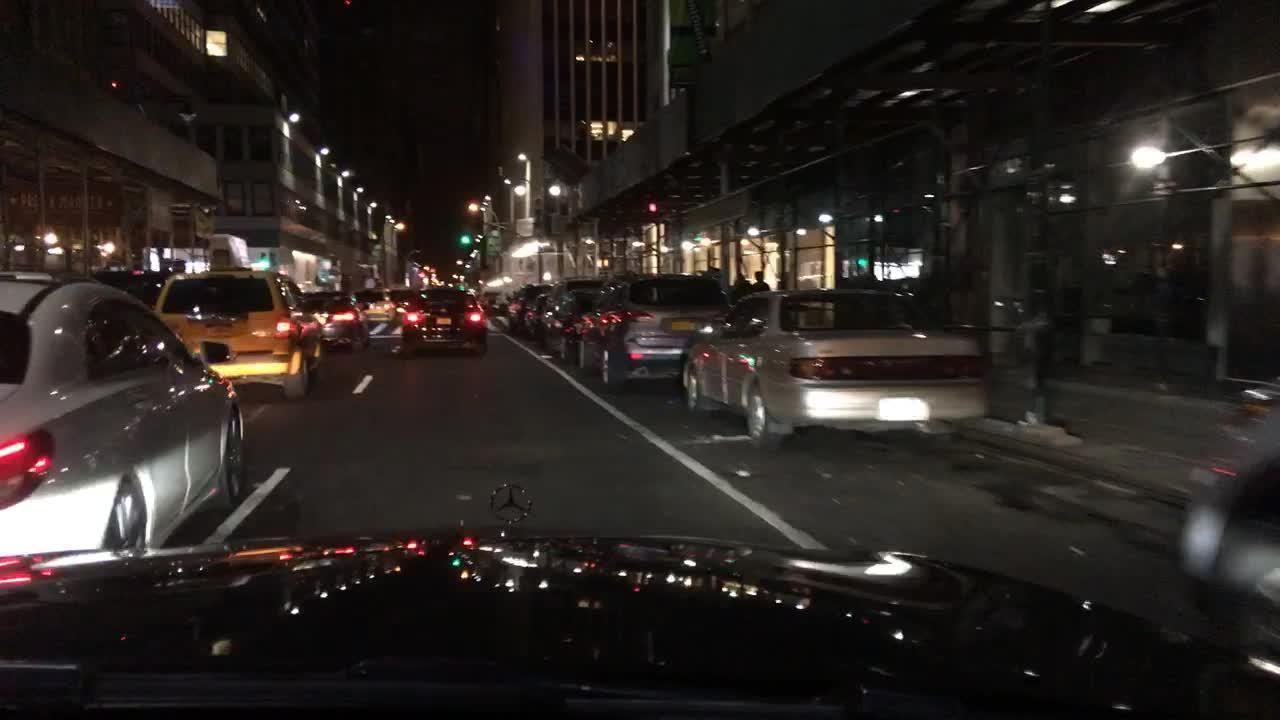Mercedes: (485, 473, 536, 525)
